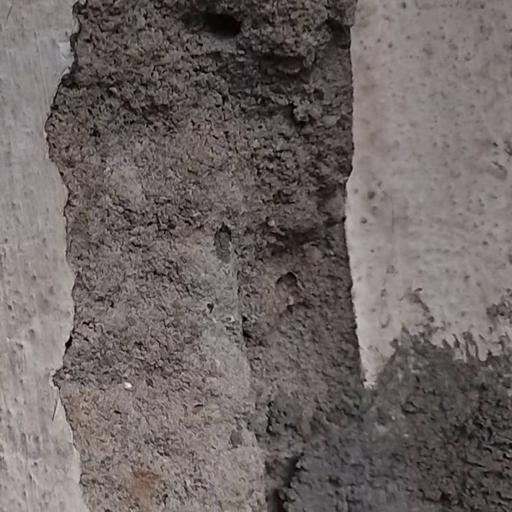spalling: (63, 7, 512, 512)
